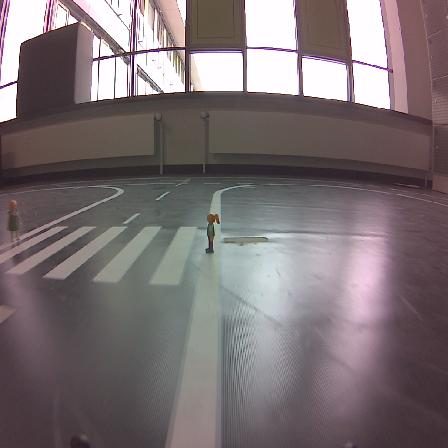CHILD: (206, 213, 219, 252)
PERSON: (7, 200, 19, 241)
